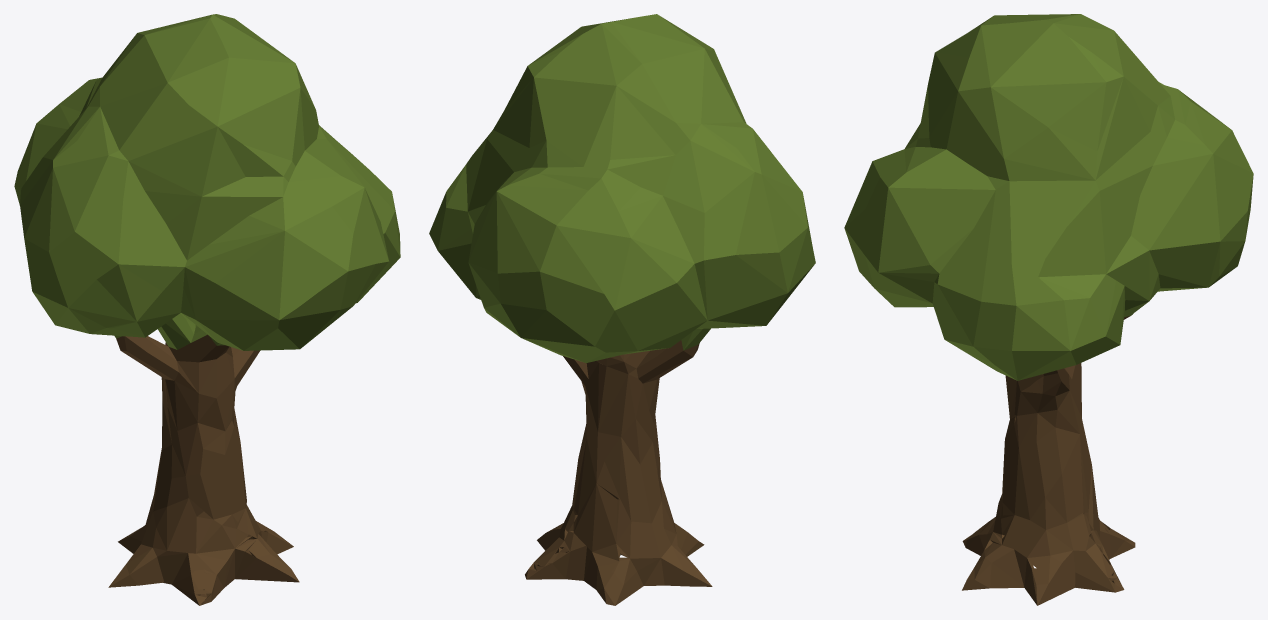
File: tree_lowpoly.glb
3 renders of one model, left to right at view 1: azimuth 30°, elevation 25°; view 2: azimuth 150°, elevation 25°; view 3: azimuth 270°, elevation 25°, orthographic.
Parts seen in each view (by area): view 1: LowPolyTree; view 2: LowPolyTree; view 3: LowPolyTree.
Part boxes in pixels (left/top/right/bottom): LowPolyTree: left=14, top=14, right=400, bottom=605; LowPolyTree: left=429, top=14, right=815, bottom=605; LowPolyTree: left=844, top=14, right=1253, bottom=605.
Bounding box in the file's own units: 2.37 × 3.5 × 2.37.
